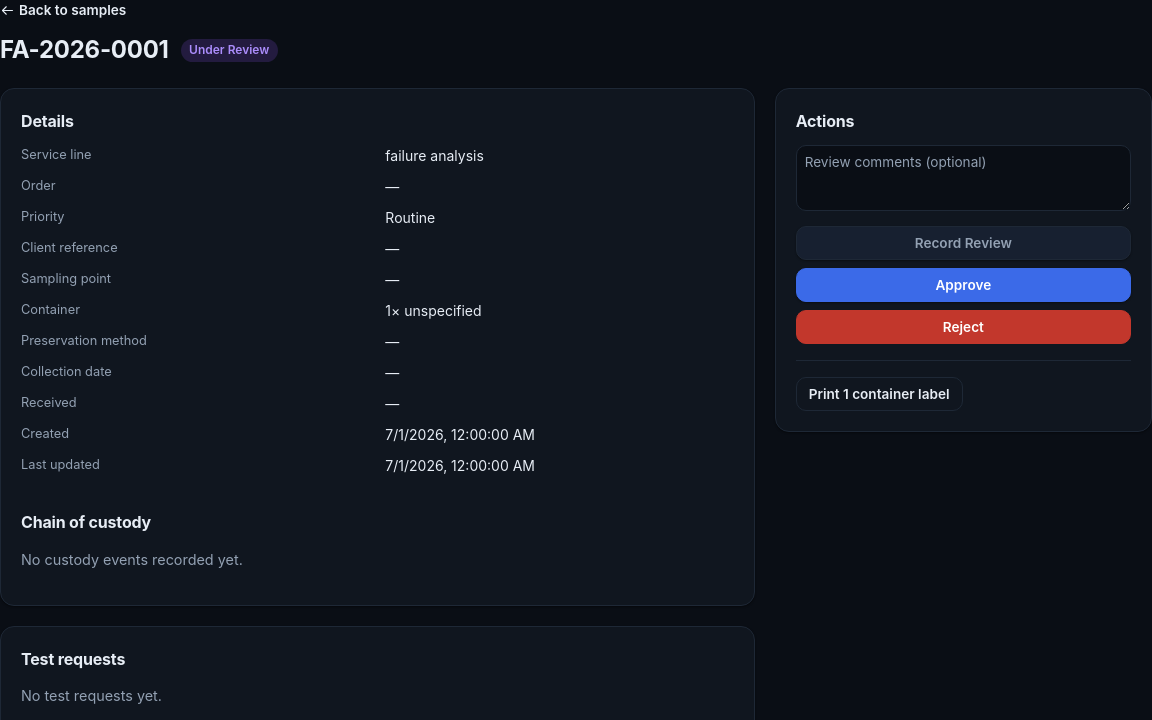
Test case: running an action › surfaces a server rejection instead of failing silently
The width and height of the screenshot is (1152, 720).
Click the button "Approve" at (963, 285), box [796,268,1131,302]
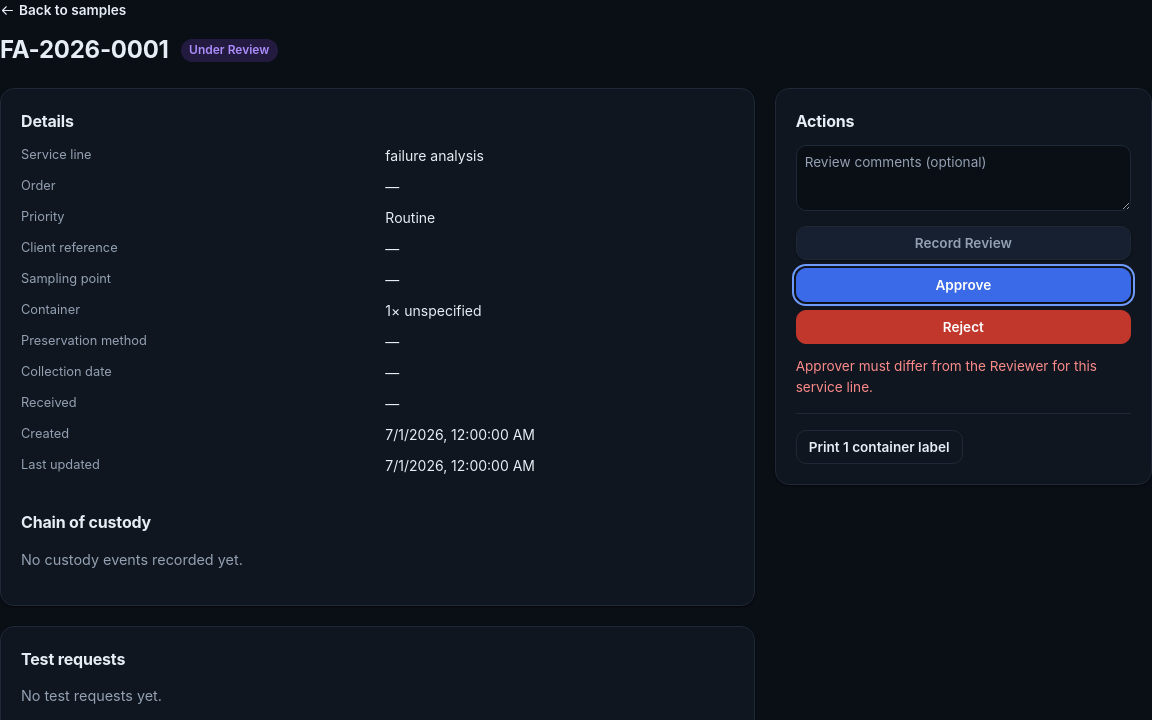
Now the text "Approver must differ from the Reviewer for this service line." is shown, box [796,356,1131,397]
